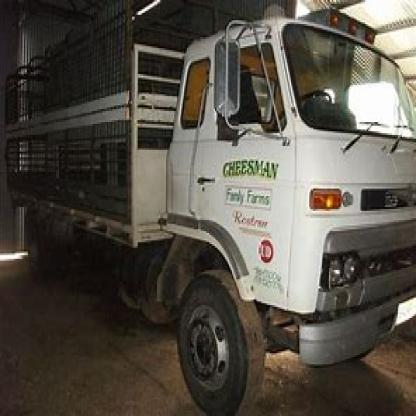dump_truck: (14, 15, 415, 405)
